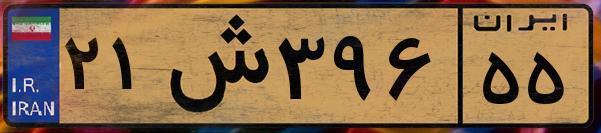1: (110, 28, 158, 98)
2: (57, 26, 110, 100)
3: (270, 28, 330, 110)
5: (475, 38, 525, 113), (525, 38, 570, 115)
6: (385, 28, 445, 110)
9: (330, 28, 385, 110)
ش: (158, 12, 270, 120)
